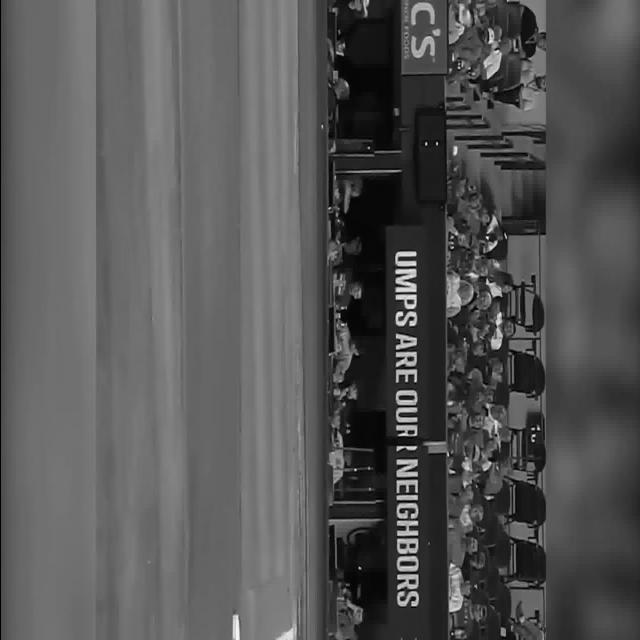base: (232, 615, 242, 640)
